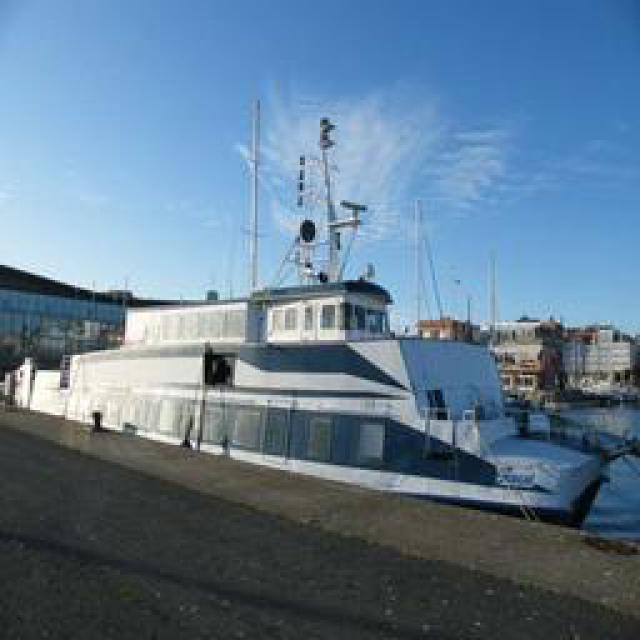Ship: (34, 86, 629, 503)
